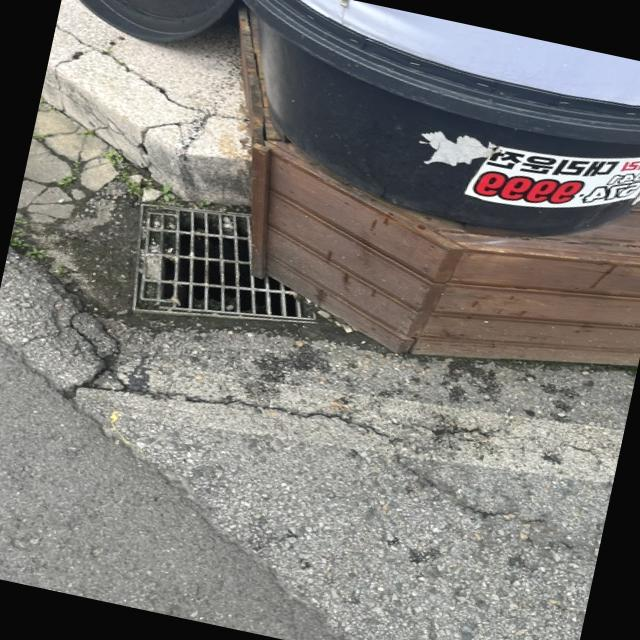drain_area: (157, 213, 300, 317)
drain_full: (133, 204, 315, 320)
